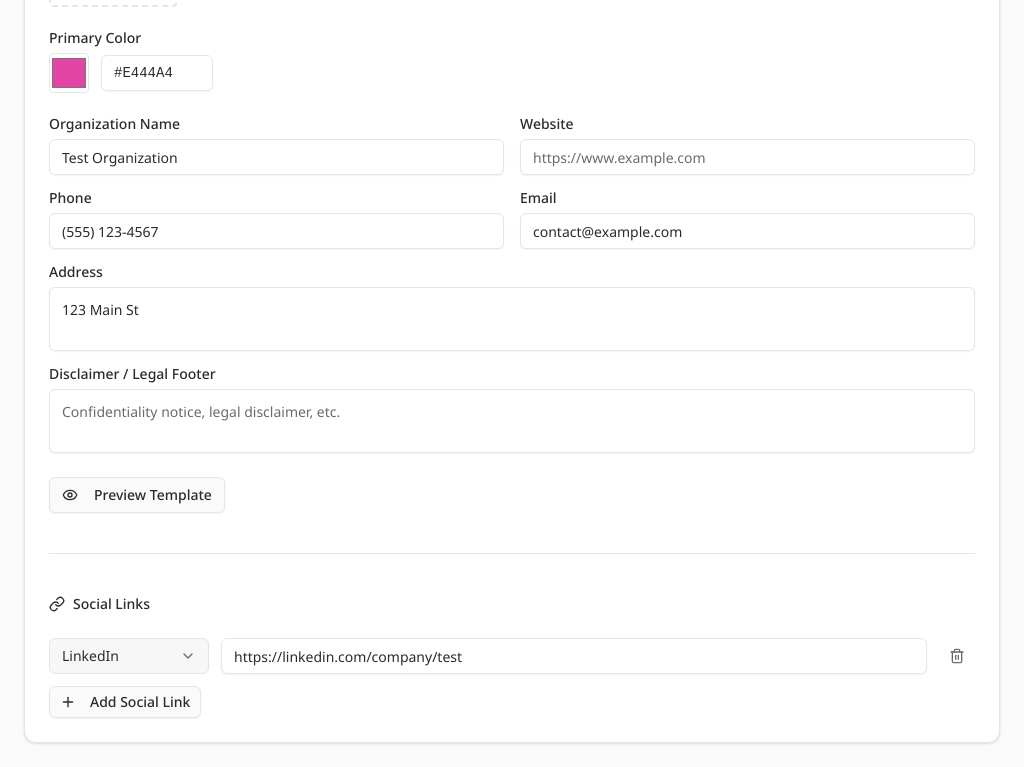
Test: SettingsPage › blocks saving a social link without https and shows the field error
(page scrolled)
Replace the text in the field named "Social URL 1" with "linkedin.com/company/test" at (574, 656), box [221, 638, 927, 674]
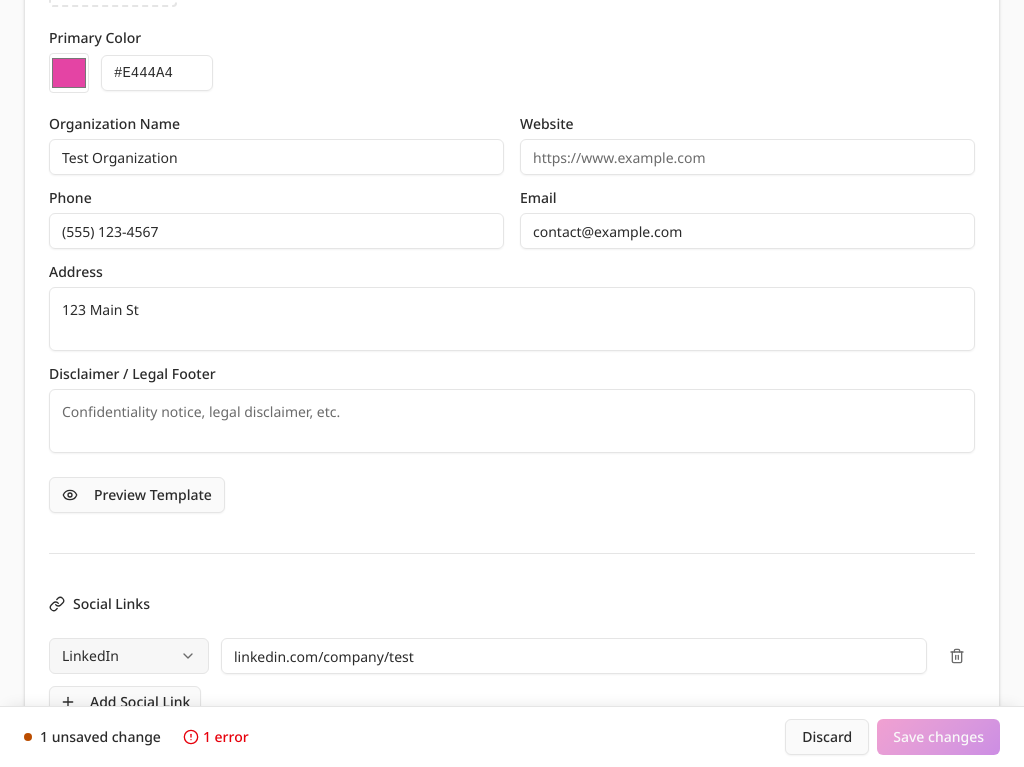
Leave the field named "Social URL 1", box [221, 638, 927, 674]
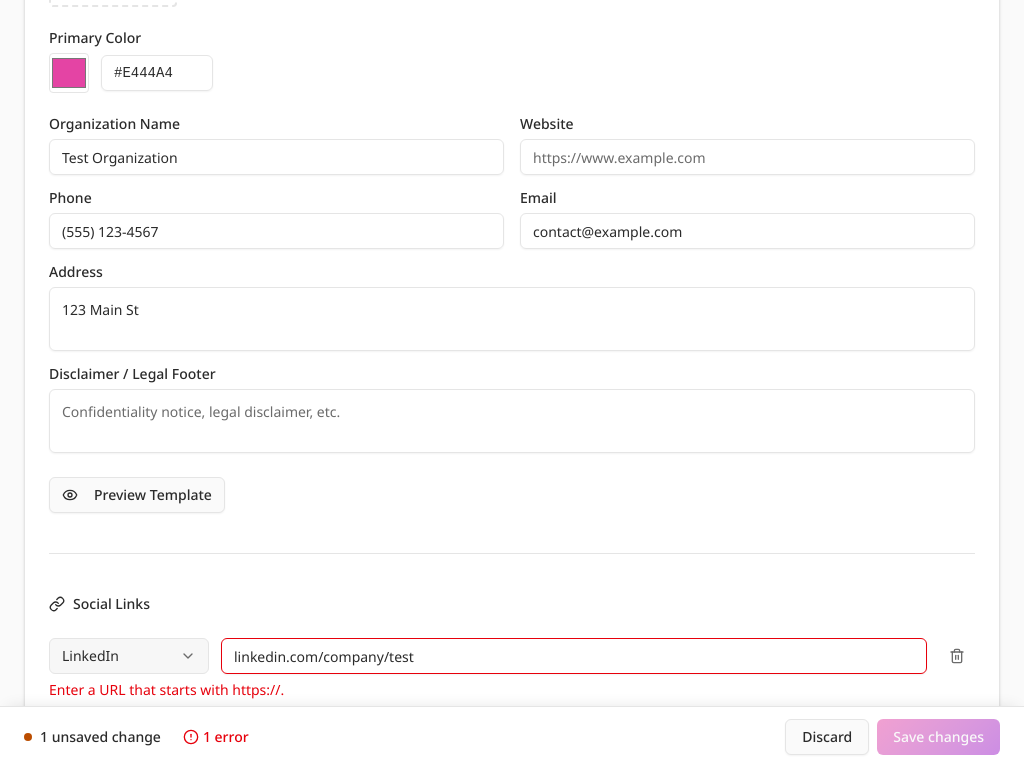
Now the button "Save changes" is disabled, box [877, 719, 1000, 755]
Now the text "Enter a URL that starts with https://." is shown, box [49, 680, 284, 699]
